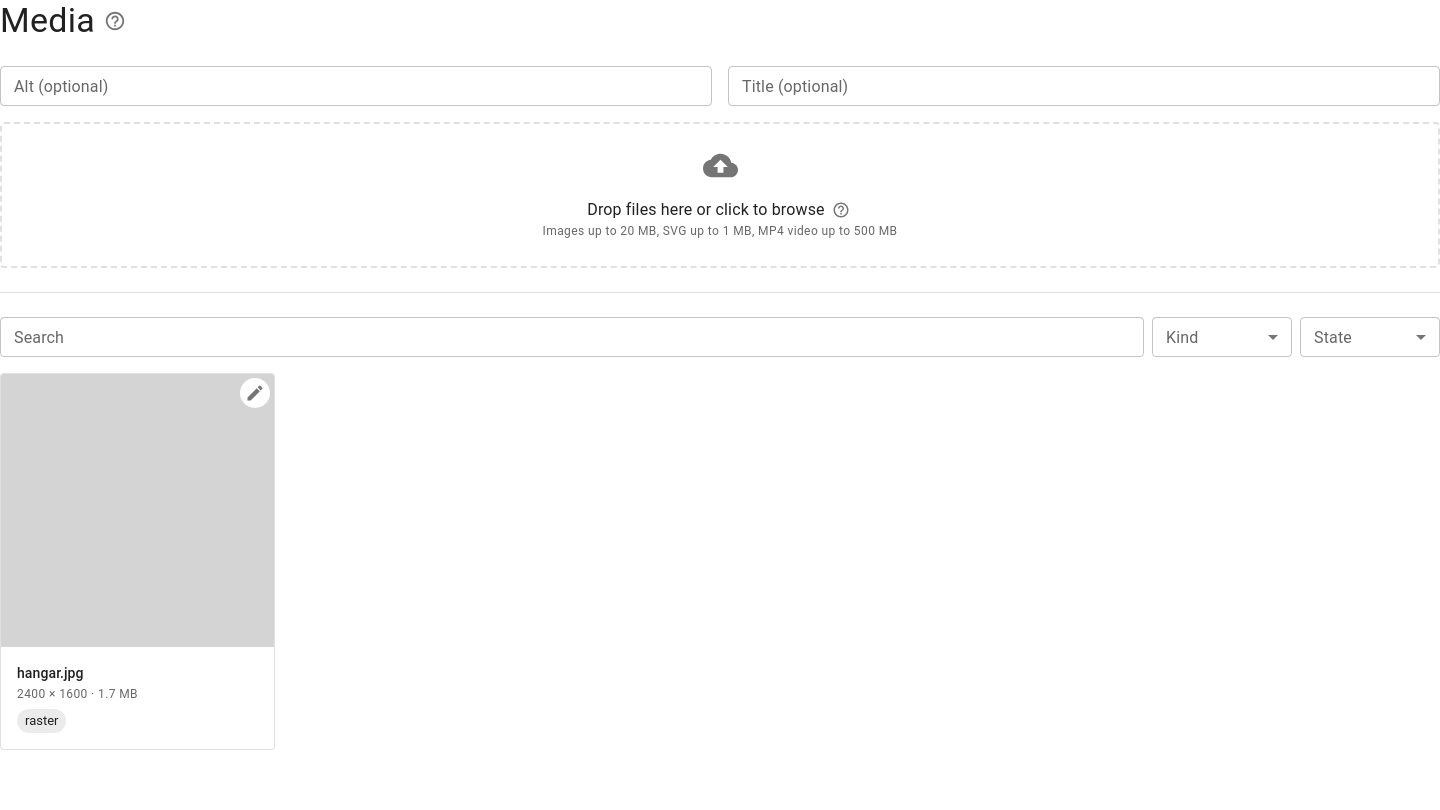
MediaLibrary › deletes an asset that is in use: the drawer closes and the delete is confirmed
The image size is (1440, 810).
What coordinates should you click on to do the following:
click the button "hangar.jpg 2400 × 1600 · 1.7 MB raster"
I would click on:
 (138, 561)
Its box is top-left (1, 374), bottom-right (274, 749).
(page scrolled)
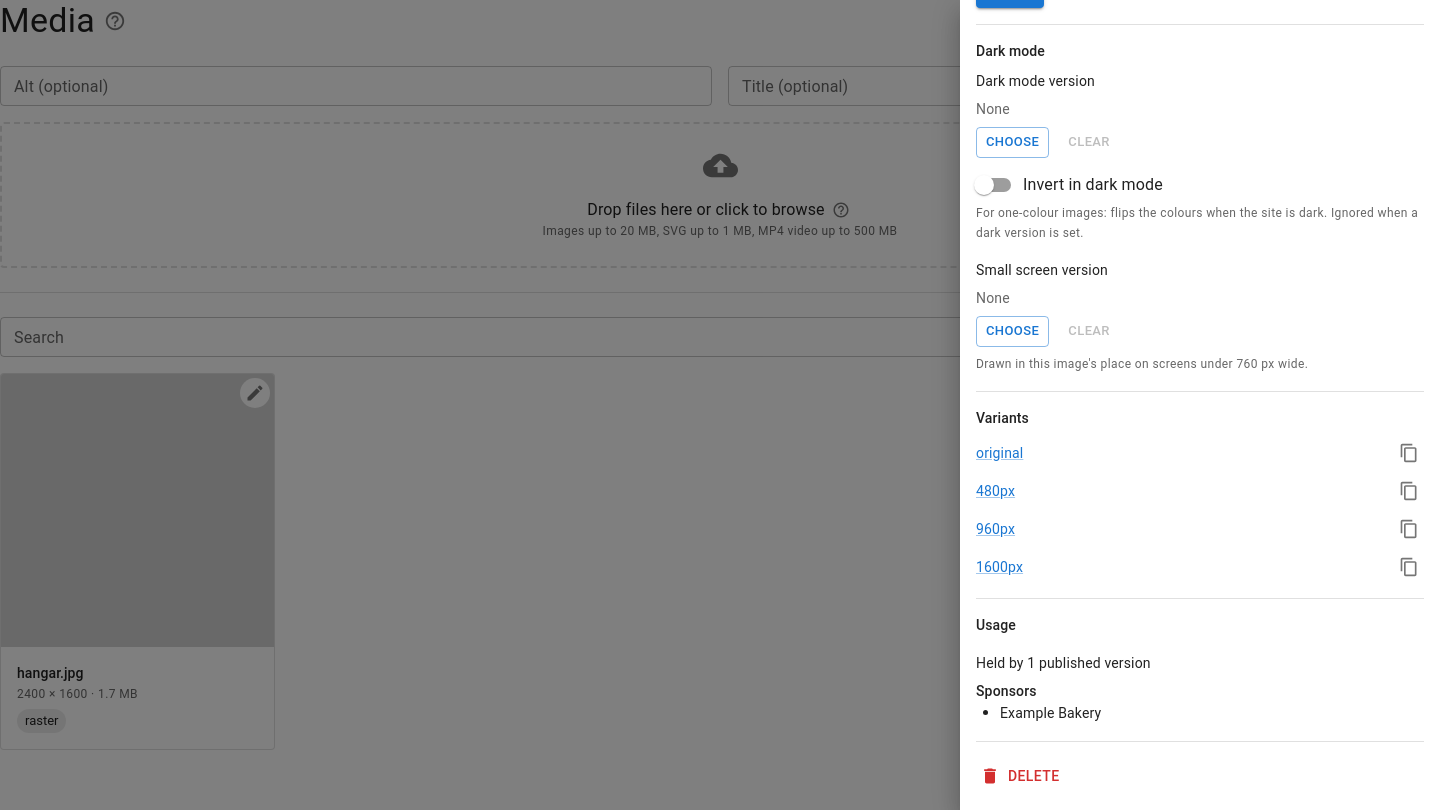
What coordinates should you click on to do the following:
click the button "Delete"
I would click on:
 (1022, 776)
Its box is top-left (976, 758), bottom-right (1068, 794).
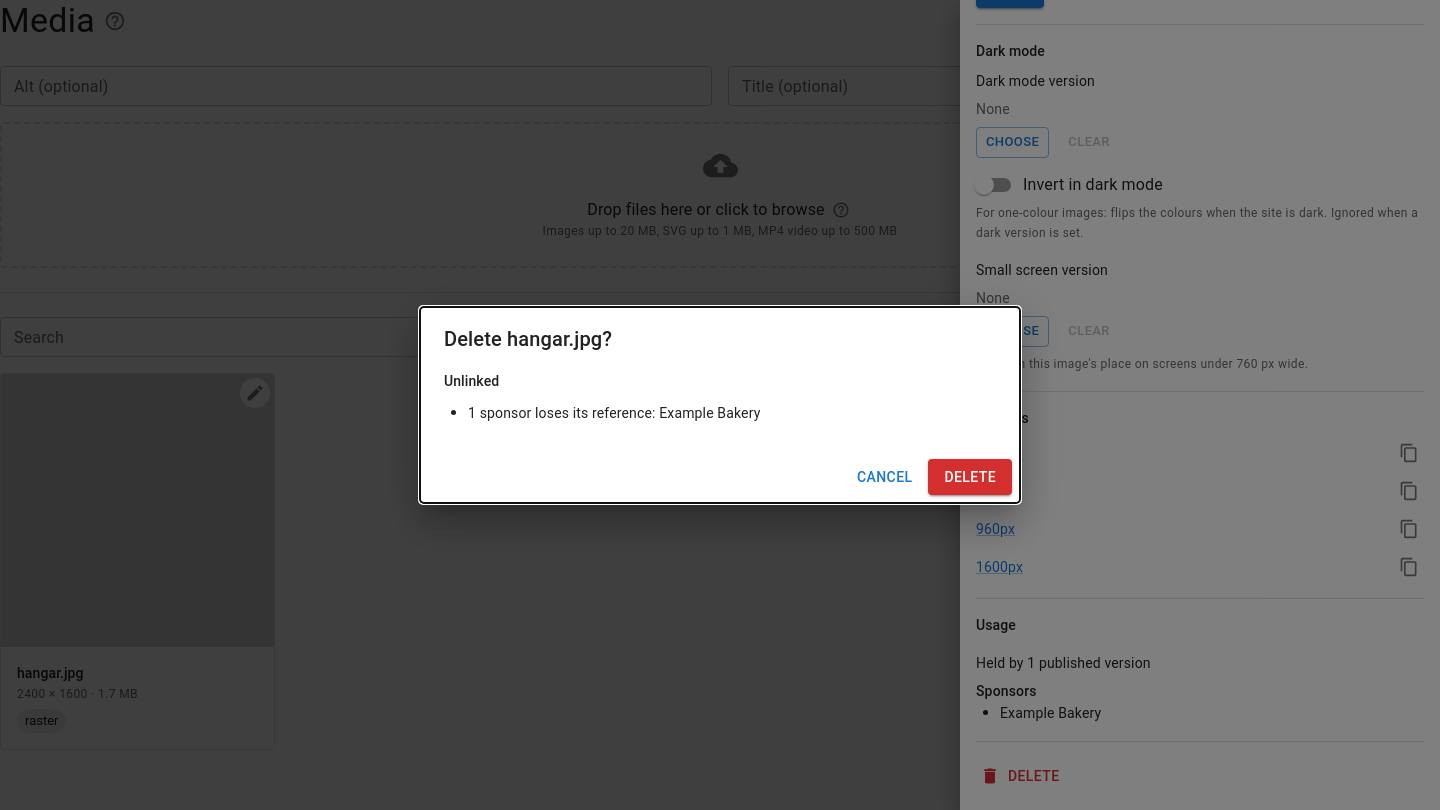
What coordinates should you click on to do the following:
click the button "Delete"
I would click on:
 (970, 477)
Its box is top-left (928, 459), bottom-right (1012, 495).
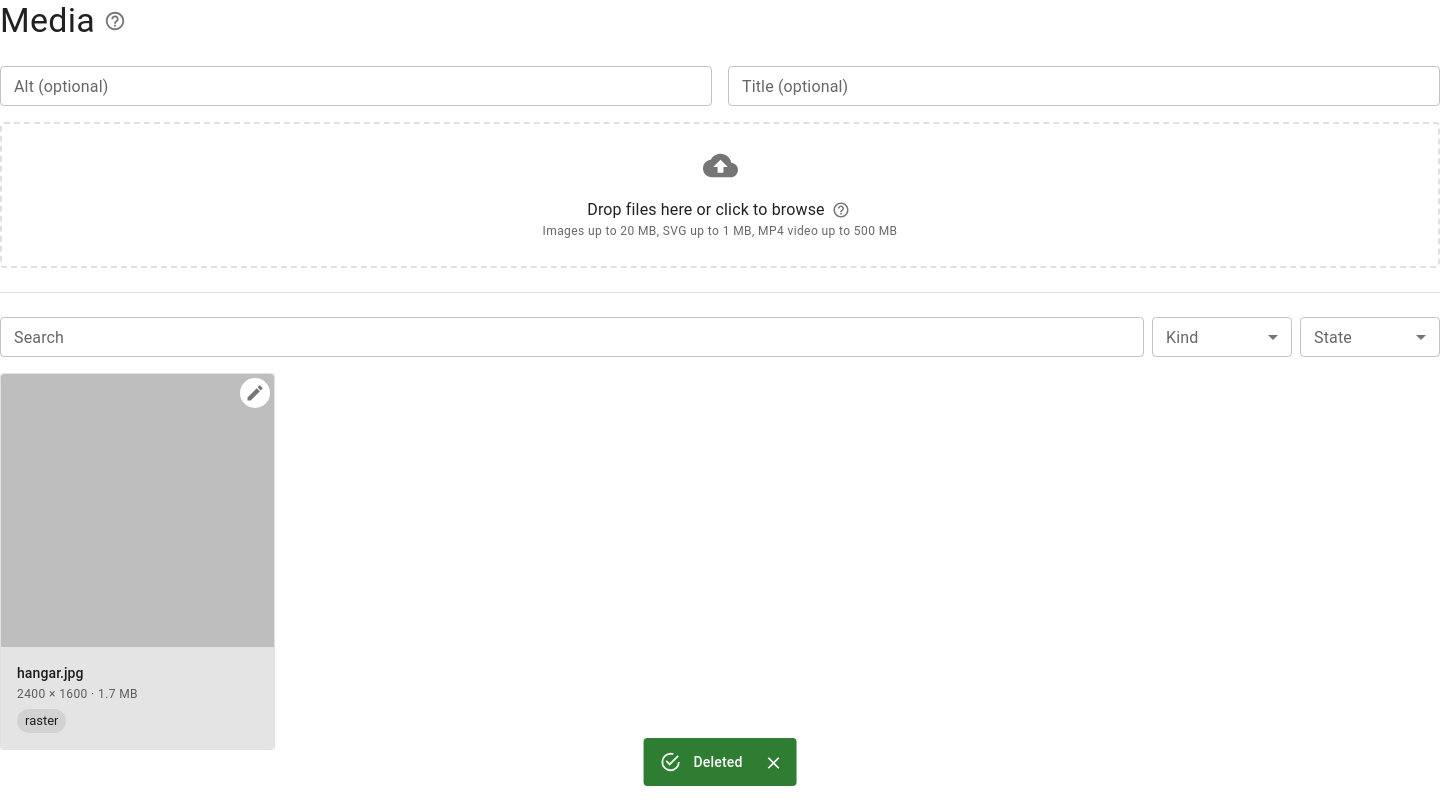
Expected: the text "Deleted" is shown, top-left (694, 754), bottom-right (742, 770)
